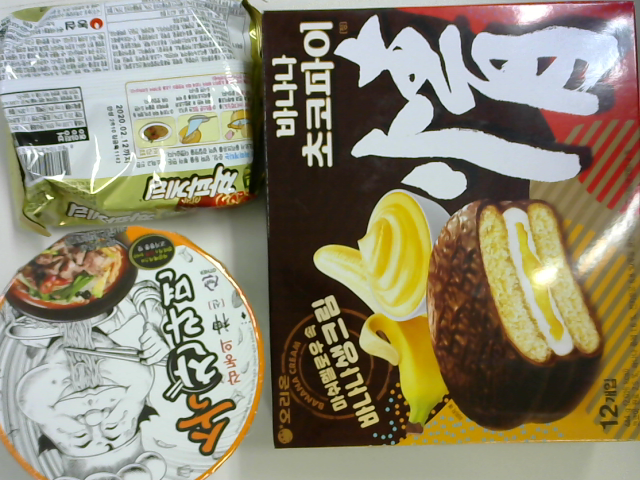Choco_Pie_Banana: (259, 8, 640, 451)
Hejangchan: (3, 232, 262, 480)
Olive_Chapaghetti: (3, 2, 261, 230)
